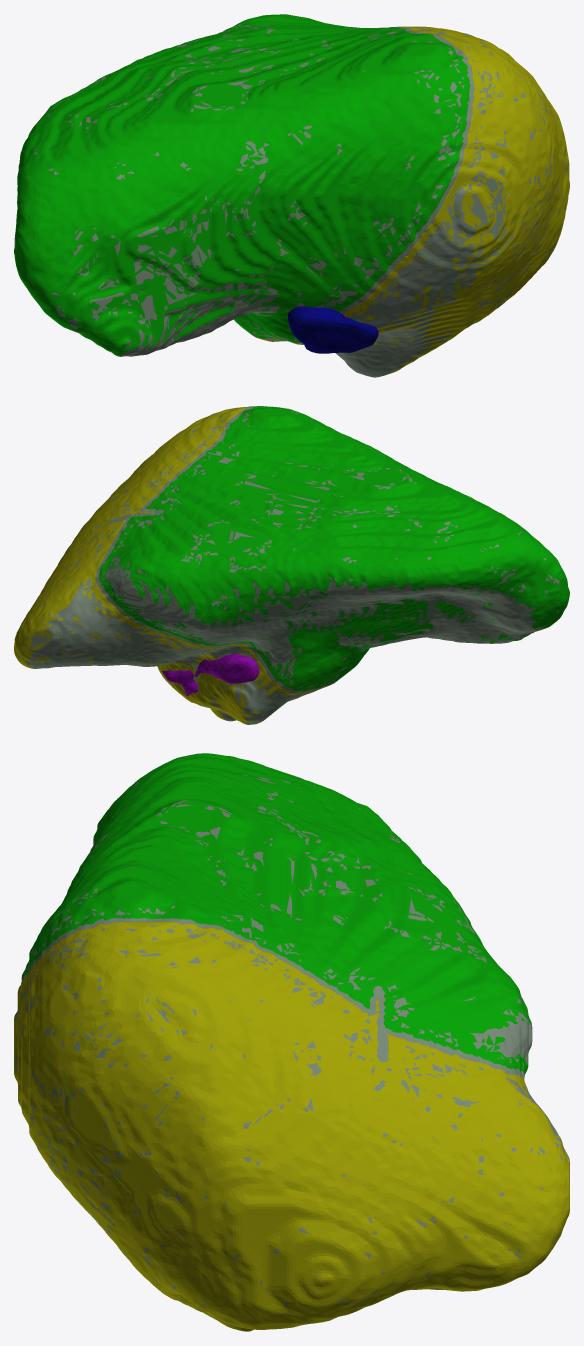
3 renders of one model, top to bottom at view 1: azimuth 30°, elevation 25°; view 2: azimuth 150°, elevation 25°; view 3: azimuth 270°, elevation 25°, orthographic. The views are drawn at different scales.
Visible parts, largest first — view 1: LH Izq, Hgado, LH Dch, Venas supraheptivas; view 2: LH Izq, Hgado, LH Dch, Porta; view 3: LH Dch, LH Izq, Hgado.
Part boxes in pixels (left/top/right/bottom): LH Izq: left=14, top=14, right=470, bottom=356; Hgado: left=14, top=24, right=567, bottom=377; LH Dch: left=254, top=26, right=569, bottom=377; Venas supraheptivas: left=288, top=306, right=378, bottom=353; LH Izq: left=99, top=406, right=569, bottom=691; Hgado: left=19, top=406, right=559, bottom=724; LH Dch: left=14, top=406, right=331, bottom=723; Porta: left=162, top=654, right=259, bottom=695; LH Dch: left=14, top=922, right=569, bottom=1331; LH Izq: left=18, top=753, right=531, bottom=1077; Hgado: left=14, top=754, right=569, bottom=1328.
Bounding box in the file's own units: 0.2156 × 0.1267 × 0.1471.
